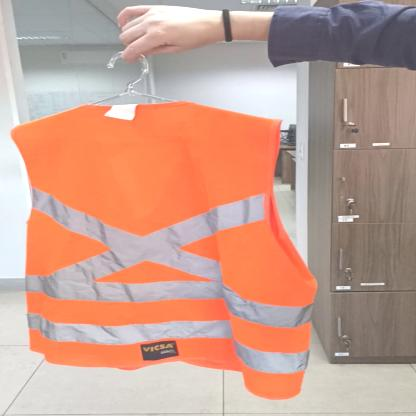colete: (10, 99, 316, 400)
